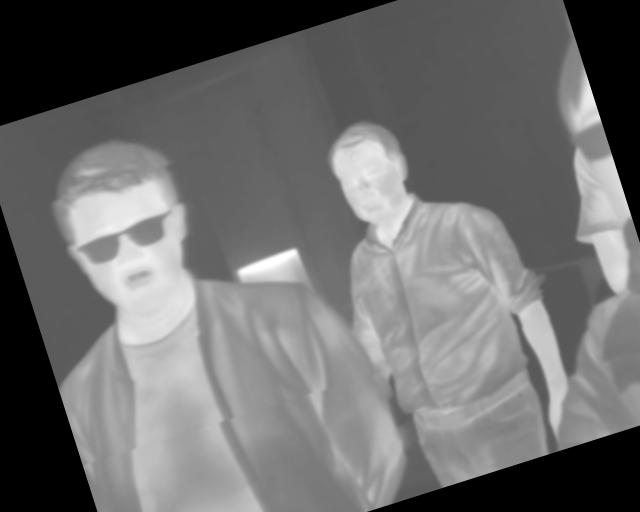face: (36, 122, 213, 331), (318, 110, 422, 231)
